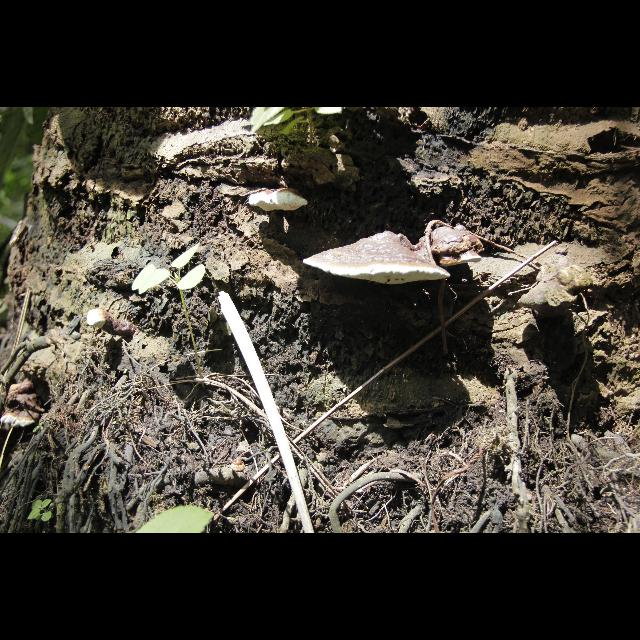ganoderma: (304, 232, 453, 286), (418, 226, 486, 269), (249, 189, 309, 214), (1, 395, 43, 429)
primordium: (88, 308, 115, 332)
